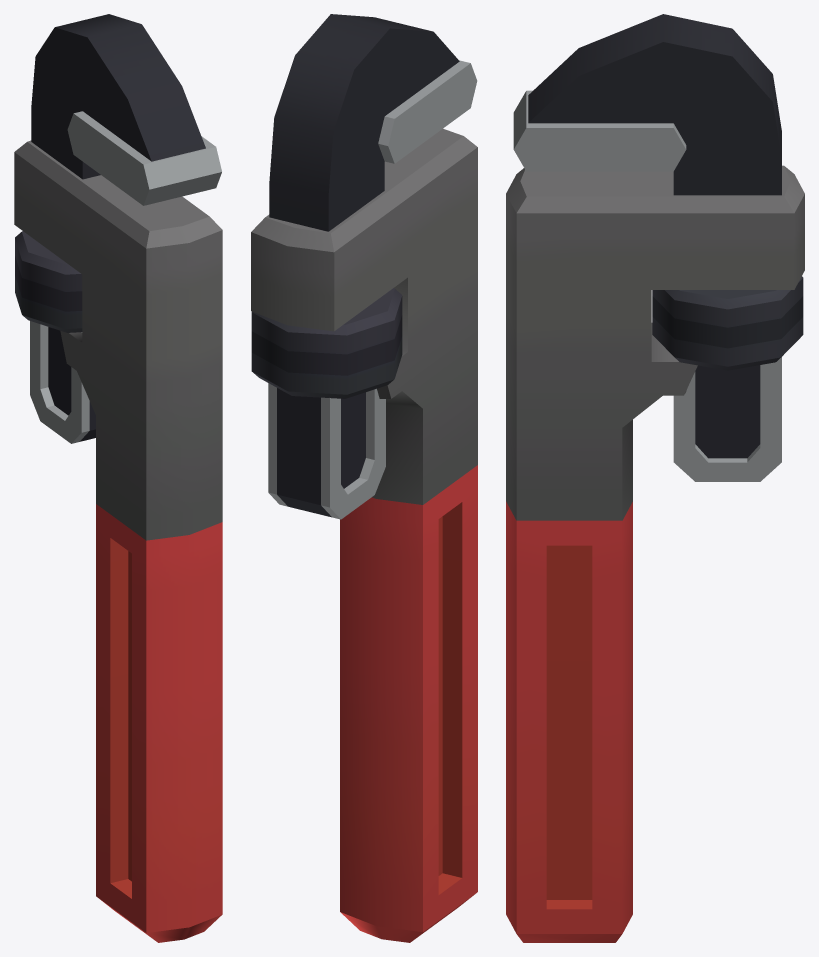
Rendered from MeleeWeaponAgent_Wrench02.fbx.
The picture shows the model from 3 angles, left to right: view 1: azimuth 30°, elevation 25°; view 2: azimuth 150°, elevation 25°; view 3: azimuth 270°, elevation 25°; orthographic projection. The views are drawn at different scales.
Visible parts, largest first — view 1: Wrench02_1; view 2: Wrench02_1; view 3: Wrench02_1.
Part boxes in pixels (box(x1,y1,x2,y2)): Wrench02_1: box(14, 14, 222, 942); Wrench02_1: box(251, 14, 477, 942); Wrench02_1: box(506, 14, 804, 942).
Size of the model in its own units: 0.1351 by 0.892 by 0.2676.
